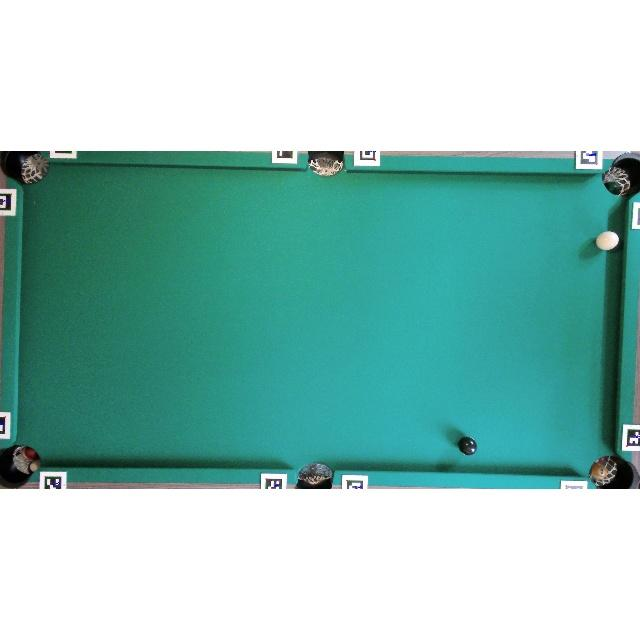cue ball: (595, 231, 620, 251)
other: (458, 436, 478, 456)
